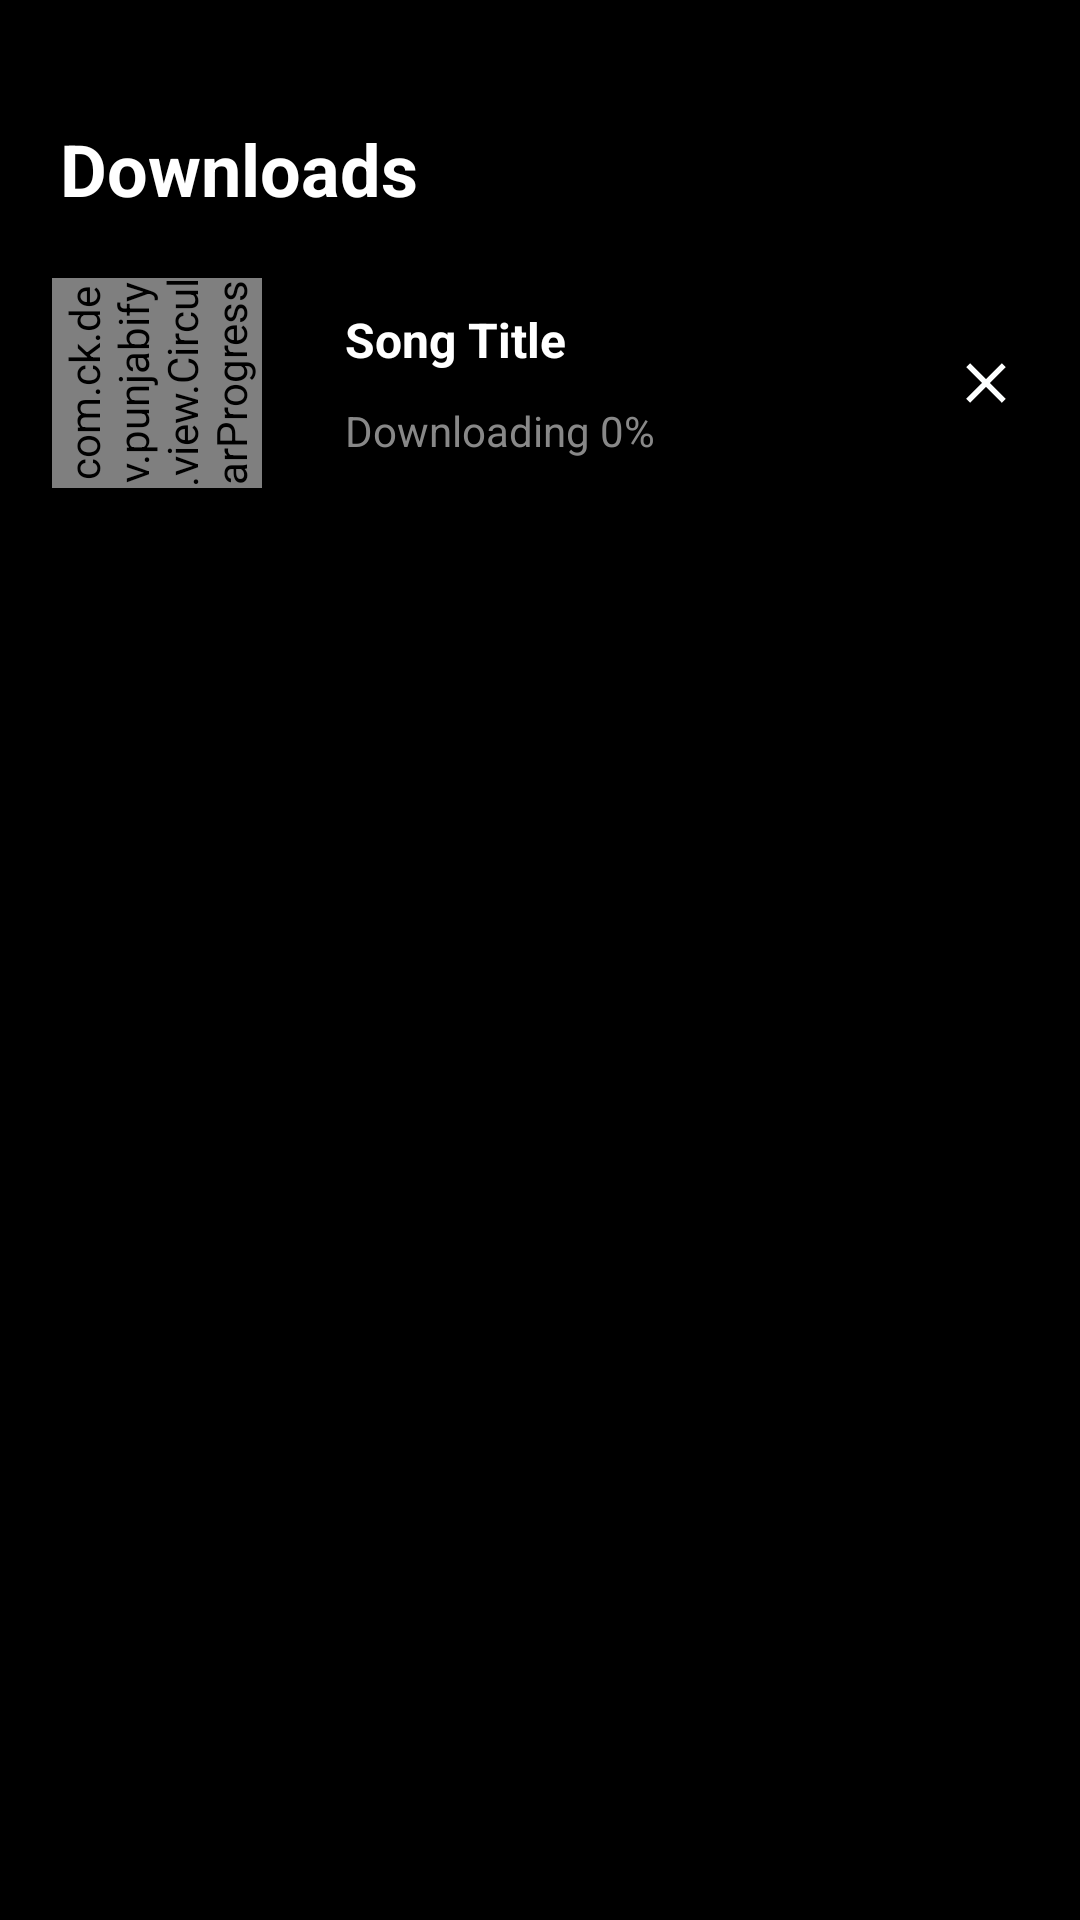

Icons on this 1080px×1920px Android screen, each with its box as (x1, y1, x2, y2):
cancel: (966, 363, 1006, 403)
